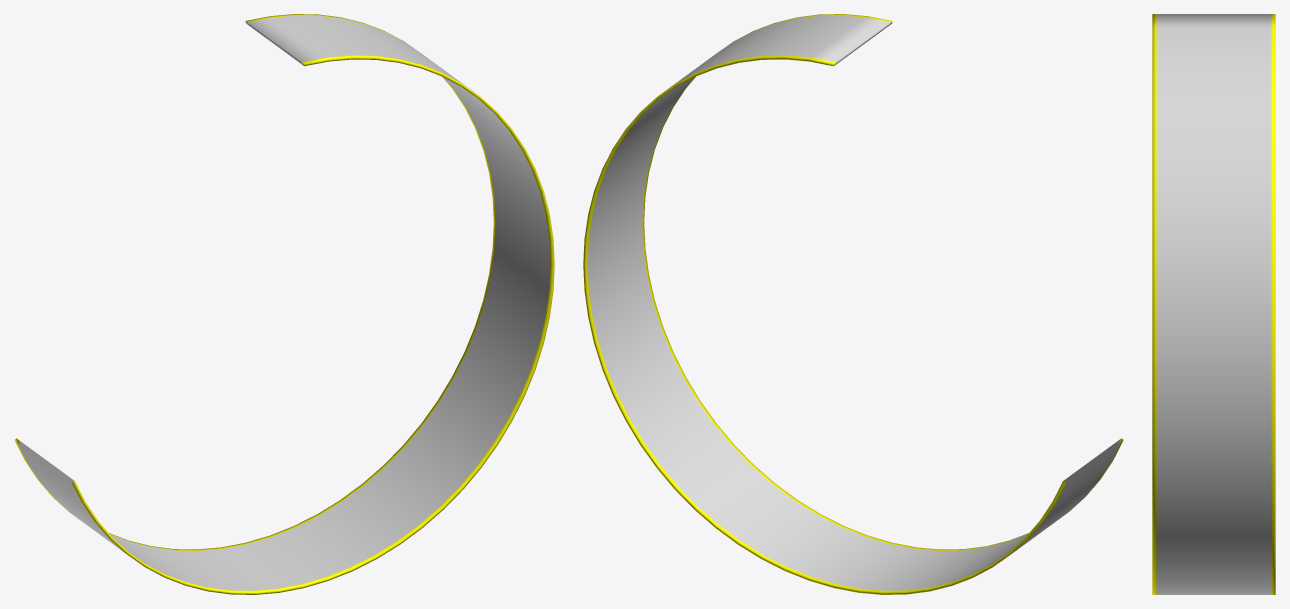
Rendered from NormalNote10.fbx.
3 renders of one model, left to right at view 1: azimuth 30°, elevation 25°; view 2: azimuth 150°, elevation 25°; view 3: azimuth 270°, elevation 25°, orthographic. The views are drawn at different scales.
Parts seen in each view (by area): view 1: NormalNote10; view 2: NormalNote10; view 3: NormalNote10.
Part boxes in pixels (x1=…): NormalNote10: x1=14, y1=14, x2=554, y2=594; NormalNote10: x1=583, y1=14, x2=1123, y2=594; NormalNote10: x1=1152, y1=14, x2=1275, y2=594.
Bounding box in the file's own units: 190 × 40 × 198.
